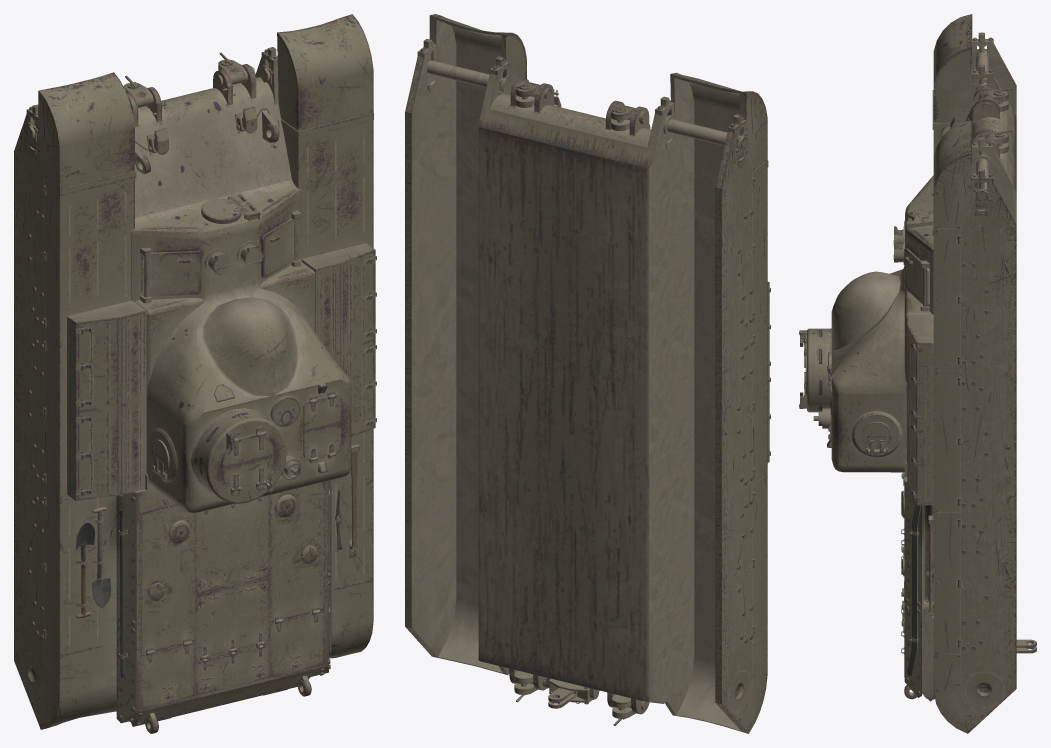
File: Hull.glb
3 views of the same model, side by side, from view 1: azimuth 30°, elevation 25°; view 2: azimuth 150°, elevation 25°; view 3: azimuth 270°, elevation 25° (orthographic). The views are drawn at different scales.
Parts seen in each view (by area): view 1: set_0_group_0; view 2: set_0_group_0; view 3: set_0_group_0.
Part boxes in pixels (x1,y1,x2,y2): set_0_group_0: (14,14,376,733); set_0_group_0: (405,14,770,733); set_0_group_0: (799,14,1036,733).
Size of the model in its own units: 3.3 by 6.25 by 2.32.
1 material, 1 textured.
